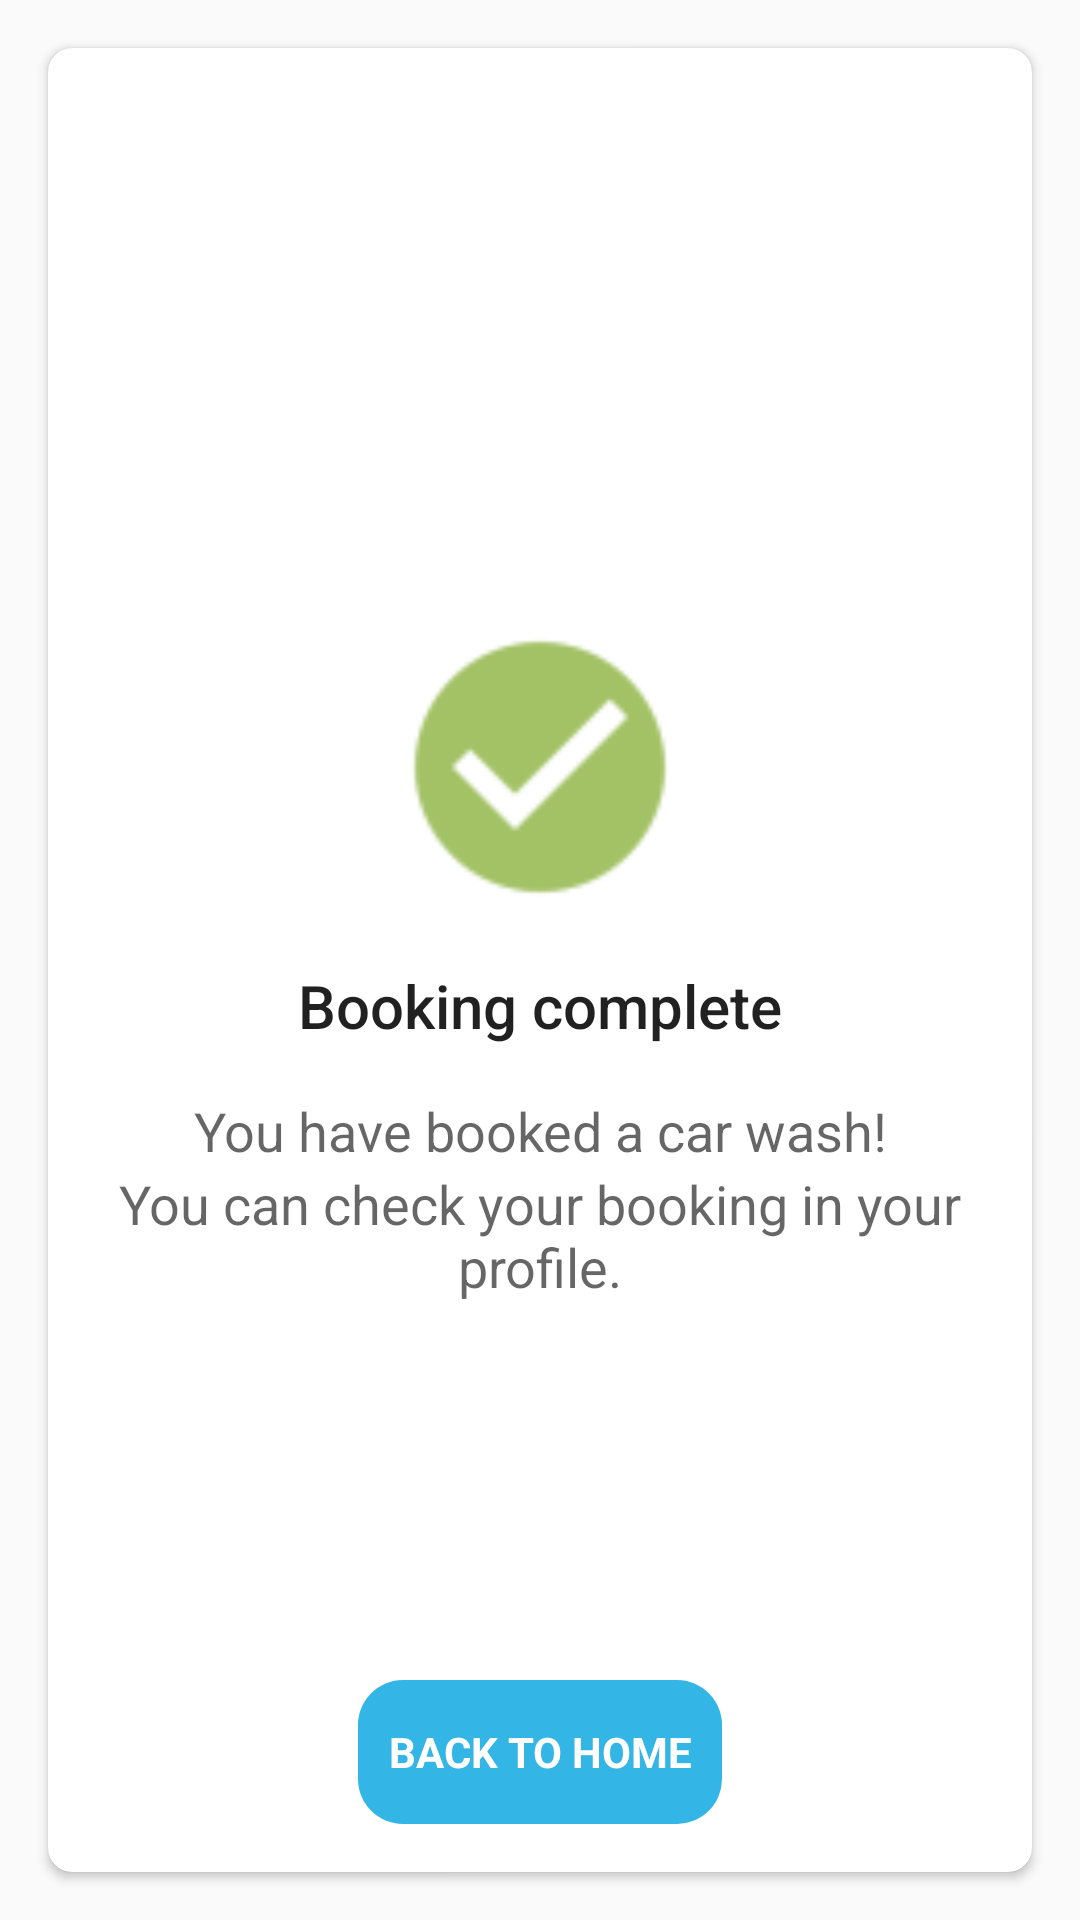

Screen size 1080w x 1920h. Icon name, then its center in pixels as [x,y]:
check circle: [540,767]
